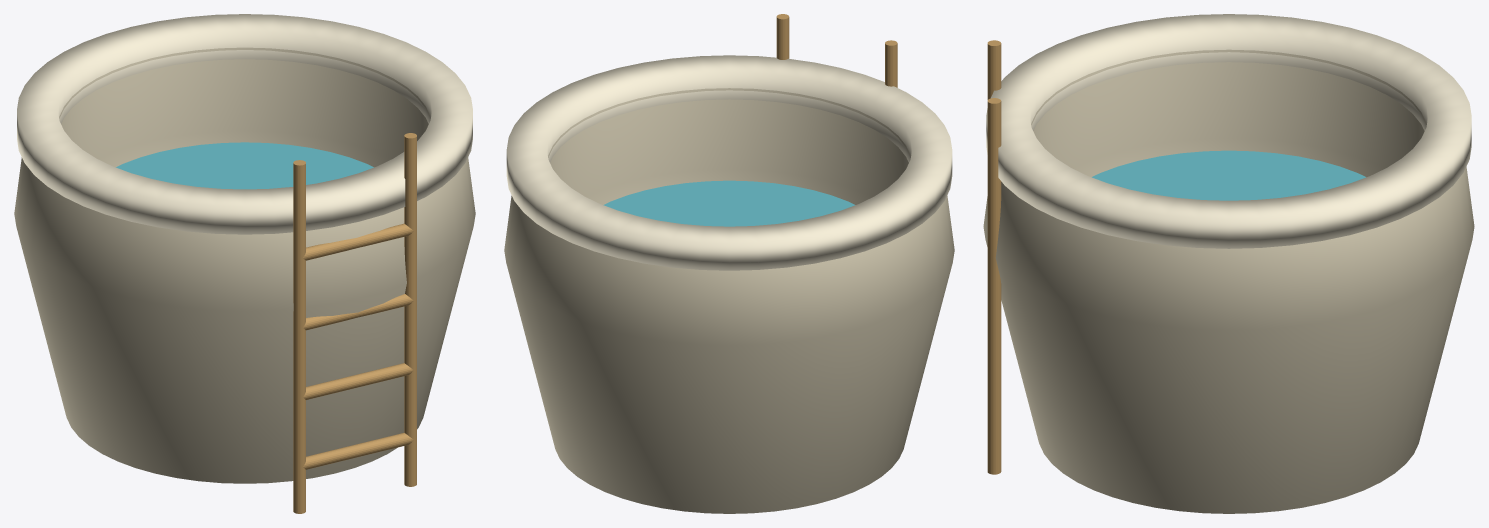
File: fantasy-bathhouse-and-thermal-sanctuary-fantasy-bathho-1338af71__29437.glb
The picture shows the model from 3 angles, left to right: view 1: azimuth 30°, elevation 25°; view 2: azimuth 150°, elevation 25°; view 3: azimuth 270°, elevation 25°; orthographic projection. The views are drawn at different scales.
Visible parts, largest first — view 1: fantasy-bathhouse-and-thermal-sanctuary-cold-immersion-well_ (×4); view 2: fantasy-bathhouse-and-thermal-sanctuary-cold-immersion-well_ (×4); view 3: fantasy-bathhouse-and-thermal-sanctuary-cold-immersion-well_ (×4).
Part boxes in pixels (box(x1,y1,x2,y2)): fantasy-bathhouse-and-thermal-sanctuary-cold-immersion-well_ (×4): box(14, 14, 475, 513); fantasy-bathhouse-and-thermal-sanctuary-cold-immersion-well_ (×4): box(504, 14, 954, 513); fantasy-bathhouse-and-thermal-sanctuary-cold-immersion-well_ (×4): box(983, 14, 1474, 513).
Size of the model in its own units: 1.8 by 1.5 by 1.8.
